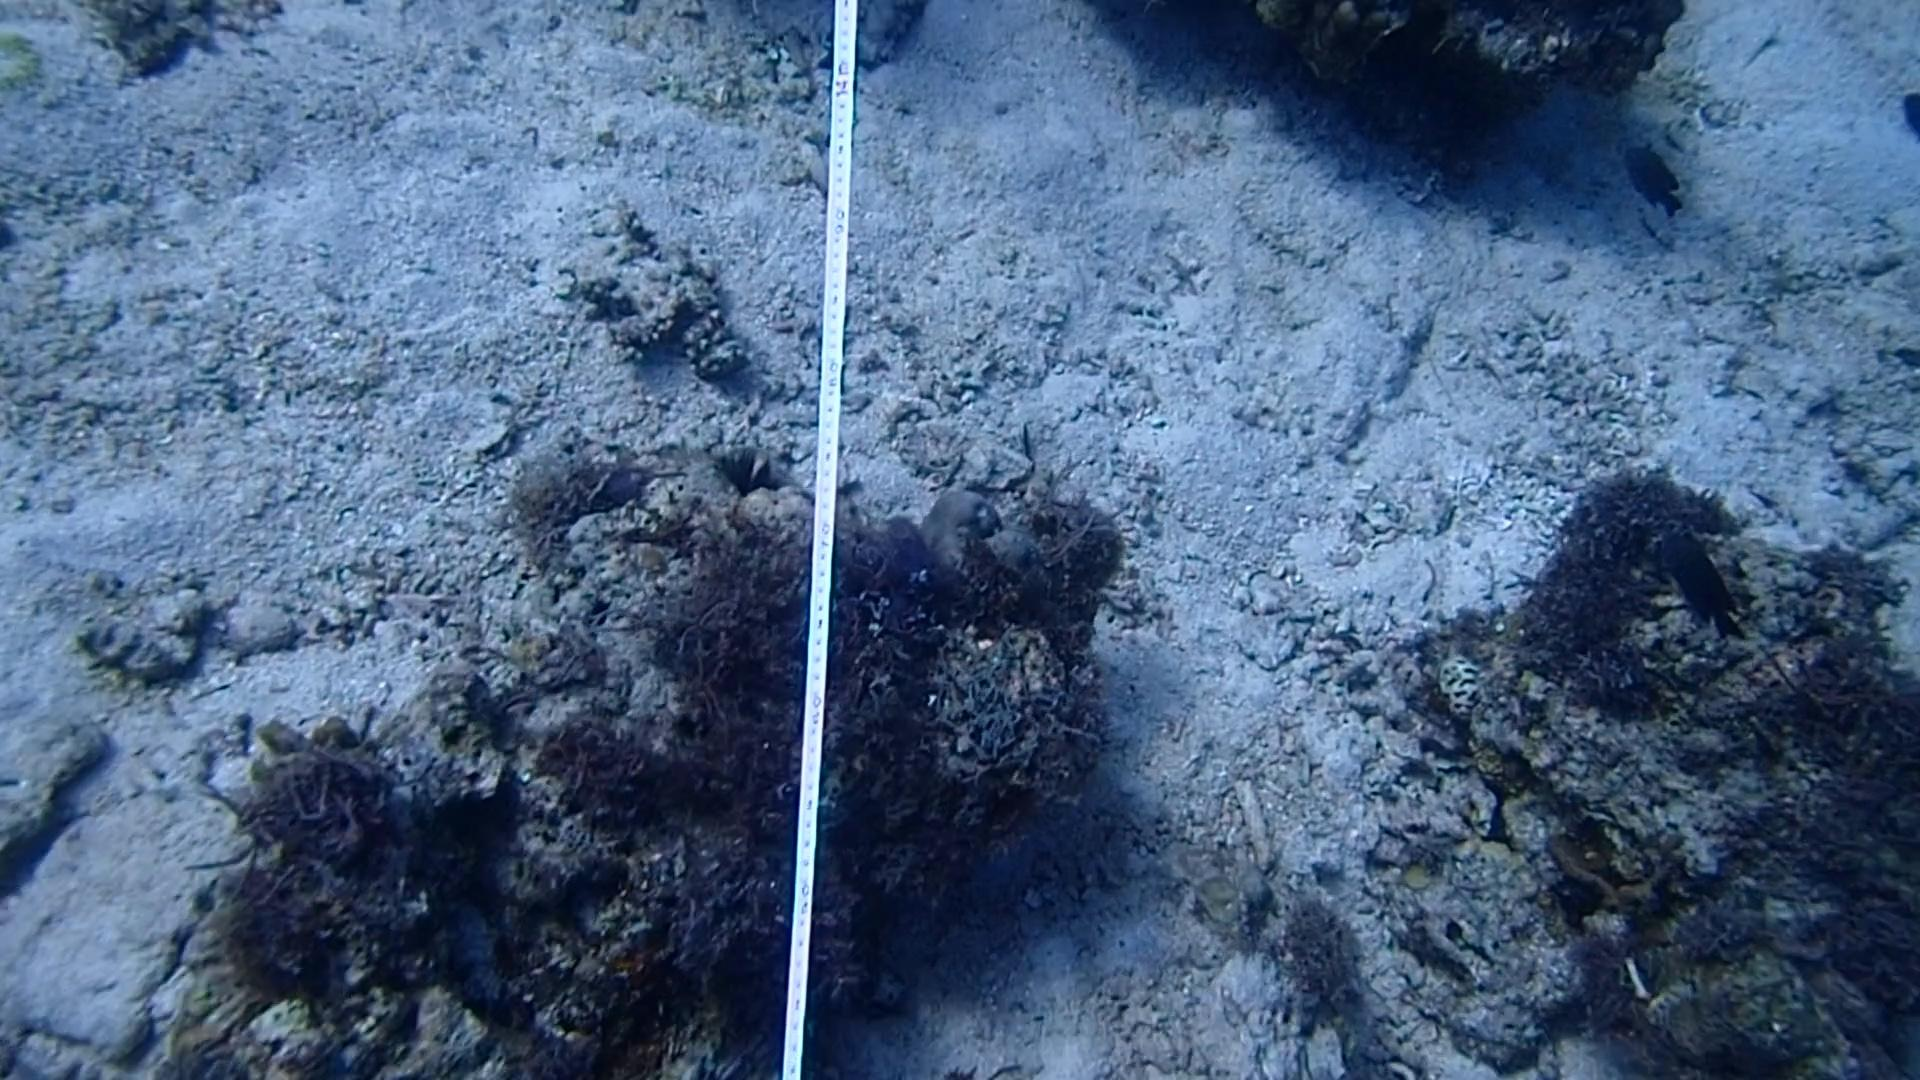Dark Fish: (1648, 513, 1751, 651), (1621, 133, 1693, 224)
